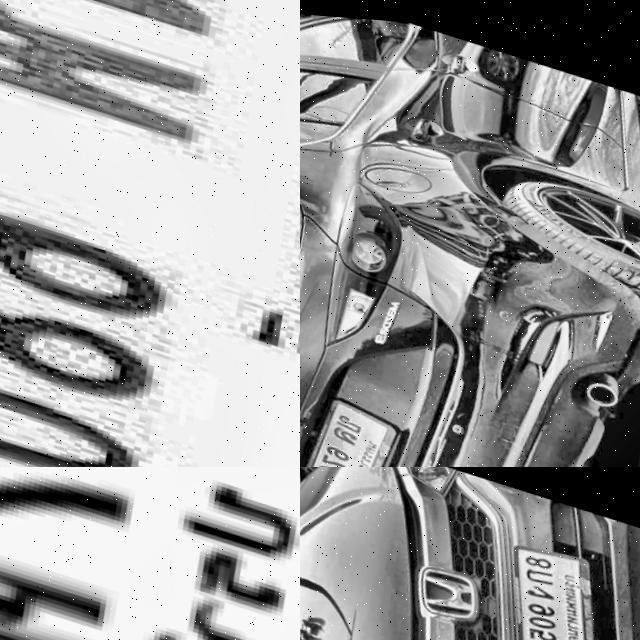license-plate: (0, 0, 300, 467), (0, 467, 300, 640), (476, 519, 627, 640), (300, 386, 414, 467)
